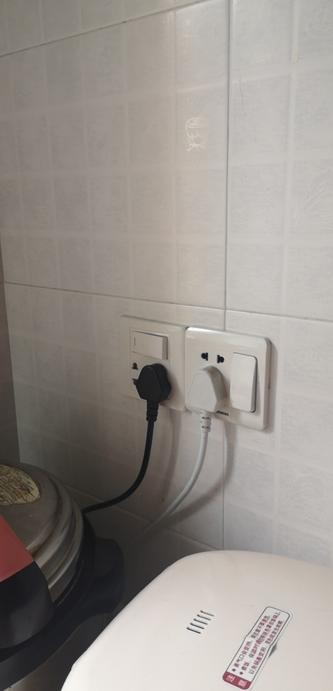switch: (225, 348, 264, 416), (124, 325, 171, 361)
